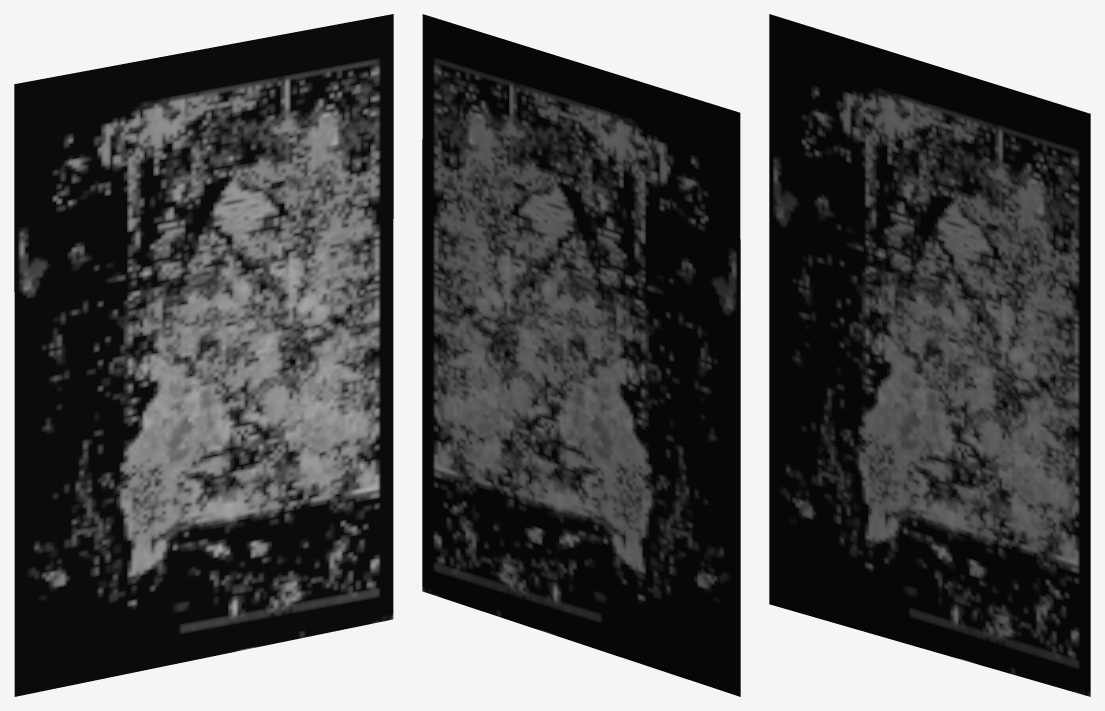
Rendered from poster_adhesive_5.fbx.
The picture shows the model from 3 angles, left to right: view 1: azimuth 30°, elevation 25°; view 2: azimuth 150°, elevation 25°; view 3: azimuth 330°, elevation 25°; orthographic projection. The views are drawn at different scales.
Visible parts, largest first — view 1: poster_adhesive_5; view 2: poster_adhesive_5; view 3: poster_adhesive_5.
Boxes of the visible parts, x1=… form: poster_adhesive_5: x1=14, y1=14, x2=393, y2=696; poster_adhesive_5: x1=422, y1=14, x2=740, y2=696; poster_adhesive_5: x1=769, y1=14, x2=1090, y2=696.
Size of the model in its own units: 44.07 by 72.42 by 4.89.
